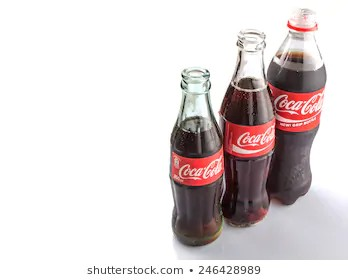coke-bottle-700ml: (271, 1, 326, 205)
coke-glass-bottle: (222, 28, 273, 226), (173, 62, 222, 251)
